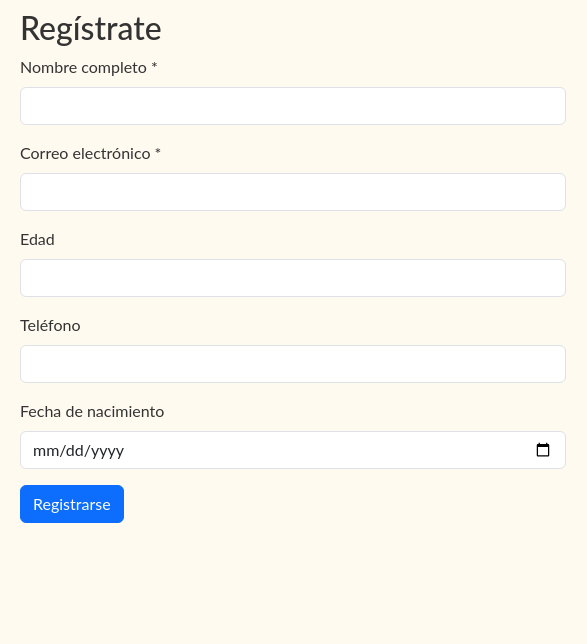
Test case: Registro Component › debería mostrar error si la fecha no coincide con la edad
The image size is (587, 644).
Type "30" into the number field labelled "Edad". click: (293, 278)
box: x1=20 y1=259 x2=566 y2=297
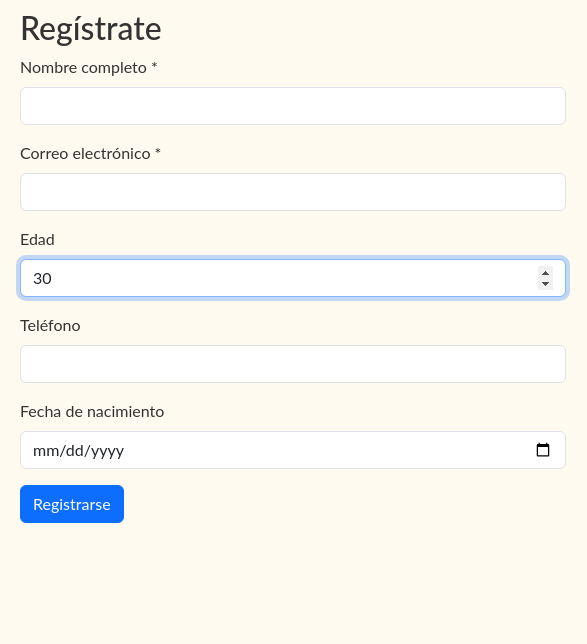
Type "2000-01-01" into the date field labelled "Fecha de nacimiento". click: (293, 450)
box: x1=20 y1=431 x2=566 y2=469
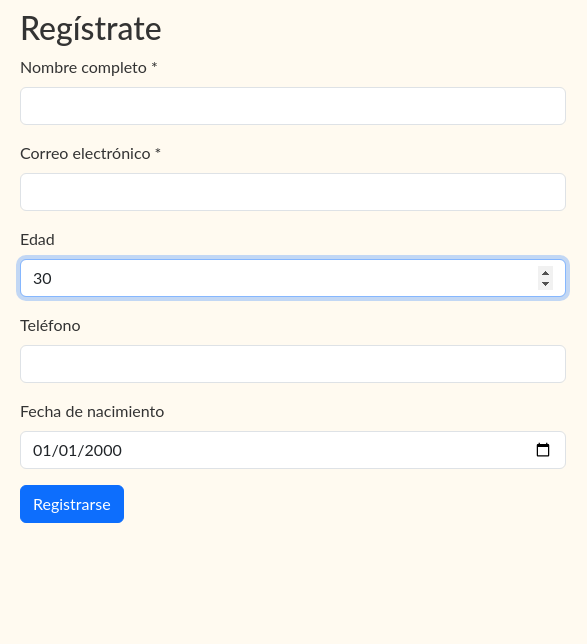
Click the button "Registrarse". click: (72, 504)
box: x1=20 y1=485 x2=124 y2=523
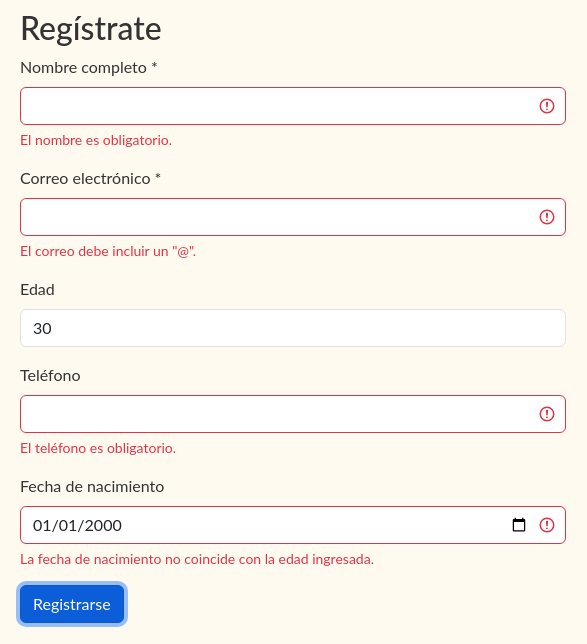
Expected: the text "La fecha de nacimiento no coincide con la edad ingresada." is shown, x1=20 y1=550 x2=374 y2=567
